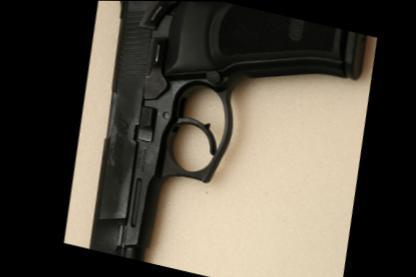pistol: (56, 0, 387, 275)
